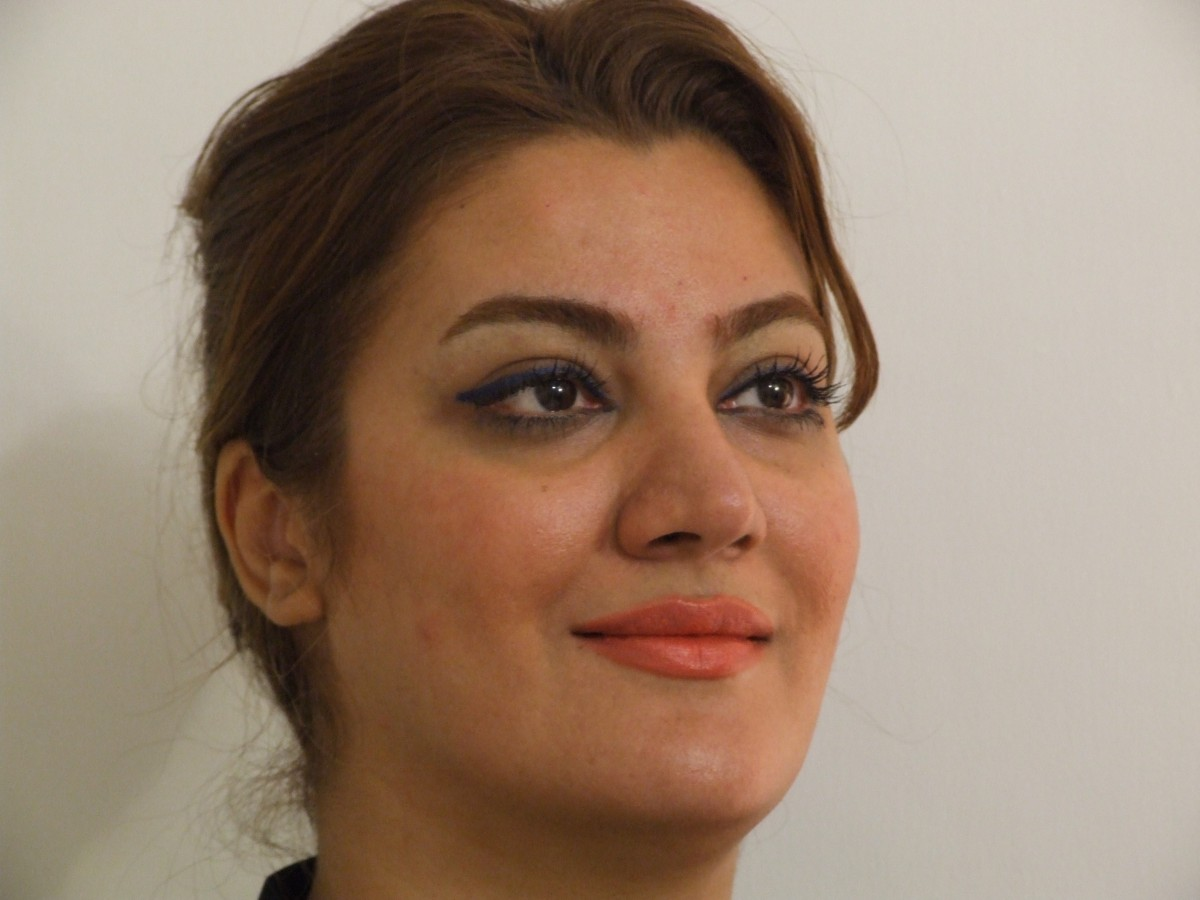neo: (537, 476, 564, 507)
occhiaia: (440, 407, 637, 475)
